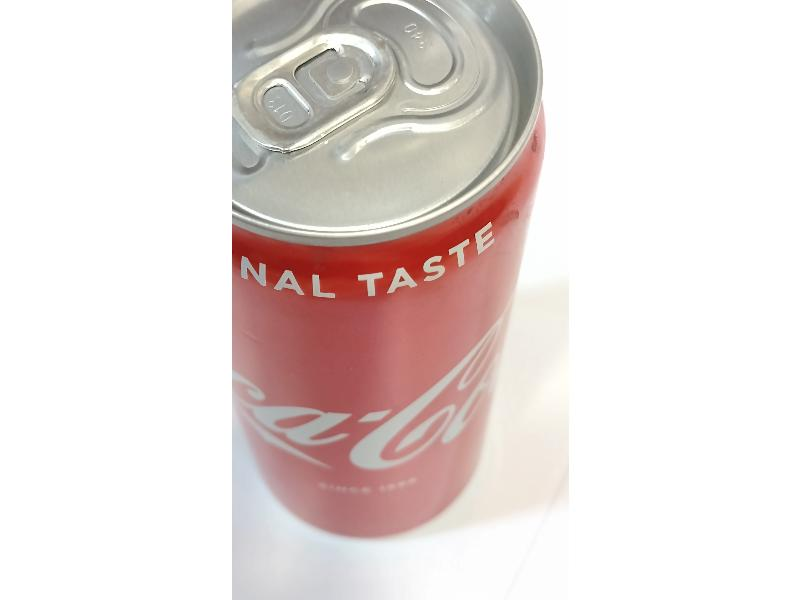can: (231, 0, 544, 536)
